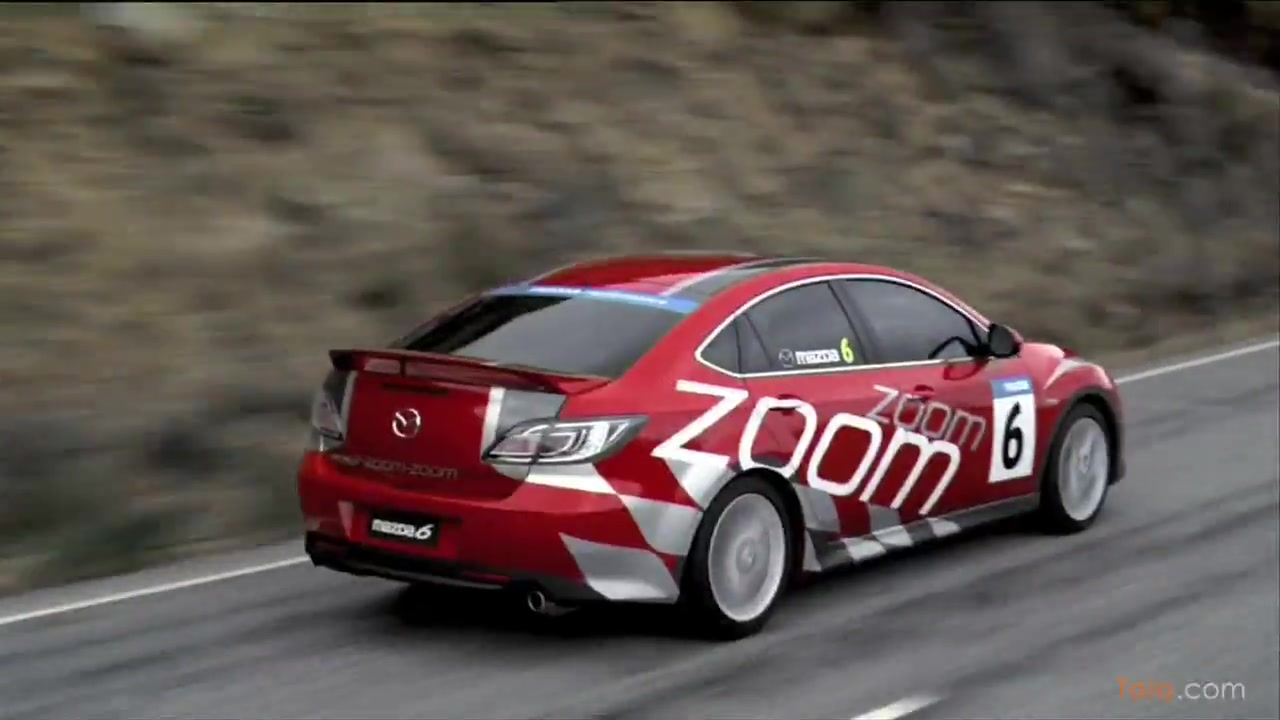car: (294, 244, 1131, 645)
